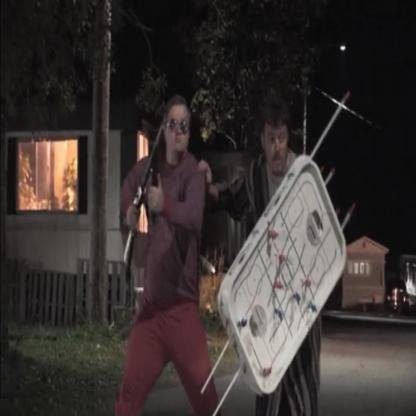gun: (113, 110, 171, 288)
